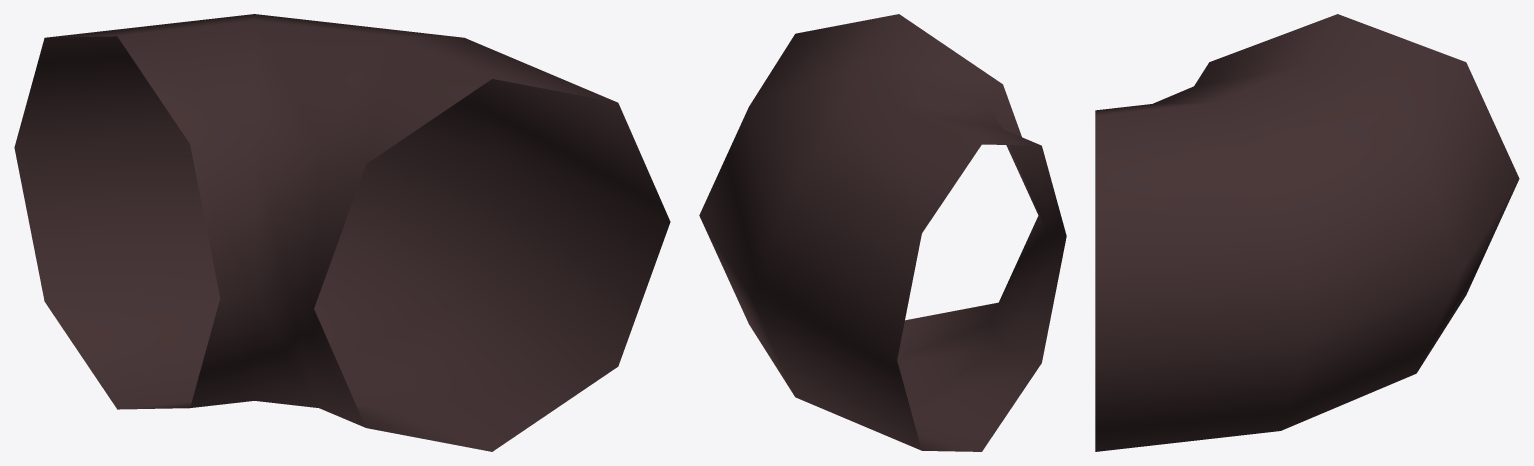
Rendered from SW_ENV_PipeCrnrSmall.fbx.
3 views of the same model, side by side, from view 1: azimuth 30°, elevation 25°; view 2: azimuth 150°, elevation 25°; view 3: azimuth 270°, elevation 25° (orthographic). The views are drawn at different scales.
Parts seen in each view (by area): view 1: SW_ENV_PipeCrnrSmall; view 2: SW_ENV_PipeCrnrSmall; view 3: SW_ENV_PipeCrnrSmall.
Boxes of the visible parts, <box> form: SW_ENV_PipeCrnrSmall: <box>14,14,670,451</box>; SW_ENV_PipeCrnrSmall: <box>699,14,1066,451</box>; SW_ENV_PipeCrnrSmall: <box>1095,14,1519,451</box>.
Size of the model in its own units: 0.175 by 0.15 by 0.175.
